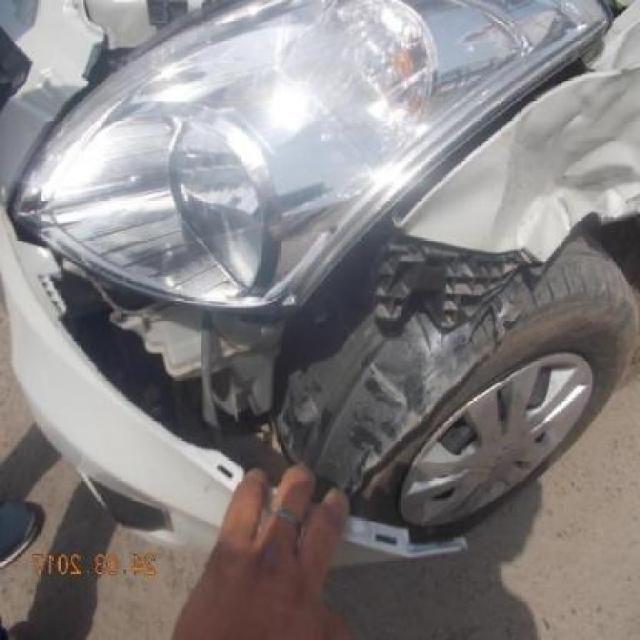damage: (2, 206, 544, 556), (387, 0, 639, 262), (0, 0, 217, 205)
